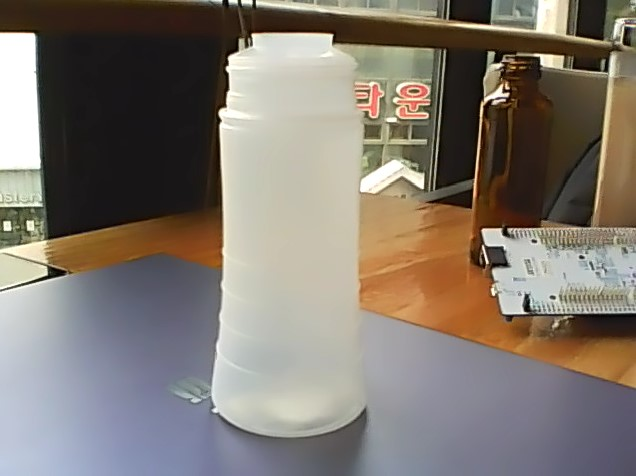Plastic: (208, 27, 372, 442)
